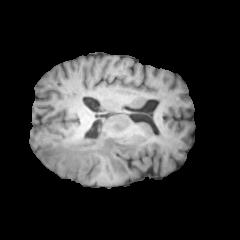glioma: (40, 115, 137, 177)
